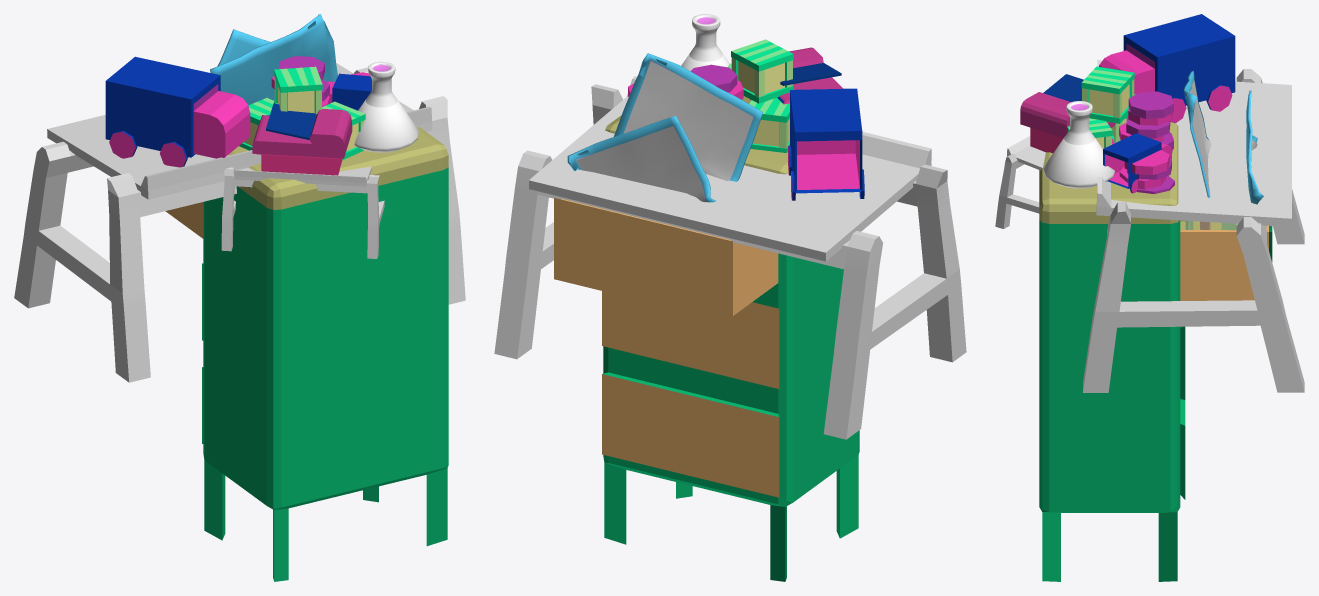
File: BlueprintCabinet.fbx
3 views of the same model, side by side, from view 1: azimuth 30°, elevation 25°; view 2: azimuth 150°, elevation 25°; view 3: azimuth 270°, elevation 25° (orthographic). The views are drawn at different scales.
Visible parts, largest first — view 1: Cabinet Body, Desk Legs.001, Cube.007, Desk Top.001, Cube.006, Cube, Crates, Desk Legs, Cube.004, Desk Top, Lorry, Cube.005 (+2 smaller); view 2: Cabinet Body, Desk Legs.001, Desk Top.001, Cube.007, Cube.001, Cube.003, Crates, Cube, Cube.002, Cube.006, Cube.005, Cylinder; view 3: Cabinet Body, Desk Legs.001, Desk Top.001, Cube.007, Cylinder, Crates, Cube.006, Cube.004, Lorry, Desk Legs, Cube.005, Cube.001 (+3 smaller).
Part boxes in pixels (box(x1,y1,x2,y2)): Cabinet Body: box(165, 127, 448, 581); Desk Legs.001: box(14, 67, 465, 382); Cube.007: box(105, 56, 250, 167); Desk Top.001: box(47, 63, 432, 199); Cube.006: box(252, 103, 352, 175); Cube: box(210, 14, 337, 105); Crates: box(239, 66, 365, 159); Desk Legs: box(221, 167, 384, 258); Cube.004: box(354, 99, 418, 152); Desk Top: box(234, 166, 371, 186); Lorry: box(326, 73, 371, 110); Cube.005: box(365, 61, 397, 107); Cabinet Body: box(554, 115, 859, 581); Desk Legs.001: box(494, 84, 966, 439); Desk Top.001: box(529, 76, 931, 261); Cube.007: box(788, 88, 864, 200); Cube.001: box(623, 62, 753, 181); Cube.003: box(577, 126, 705, 202); Crates: box(728, 39, 793, 152); Cube: box(614, 53, 762, 181); Cube.002: box(567, 115, 715, 202); Cube.006: box(750, 47, 842, 104); Cube.005: box(689, 14, 722, 61); Cylinder: box(628, 64, 743, 99); Cabinet Body: box(1039, 122, 1272, 581); Desk Legs.001: box(1083, 69, 1304, 392); Desk Top.001: box(1096, 59, 1291, 226); Cube.007: box(1099, 14, 1235, 122); Cylinder: box(1119, 91, 1174, 193); Crates: box(1067, 66, 1135, 148); Cube.006: box(1020, 74, 1115, 153); Cube.004: box(1043, 137, 1114, 188); Lorry: box(1103, 133, 1171, 193); Desk Legs: box(995, 154, 1039, 228); Cube.005: box(1064, 101, 1094, 144); Cube.001: box(1190, 80, 1211, 192).
Size of what is drawn, in the model's own units: 97.51 by 134 by 80.47.
